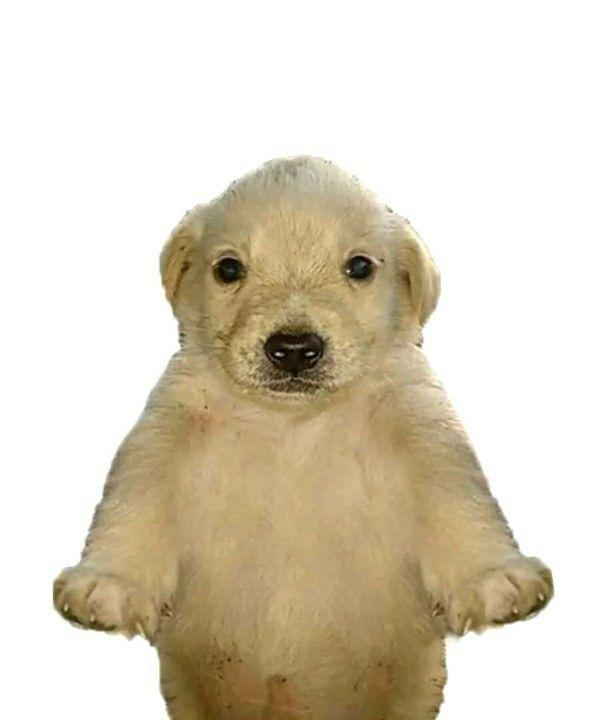puppy-dog: (50, 152, 557, 720)
